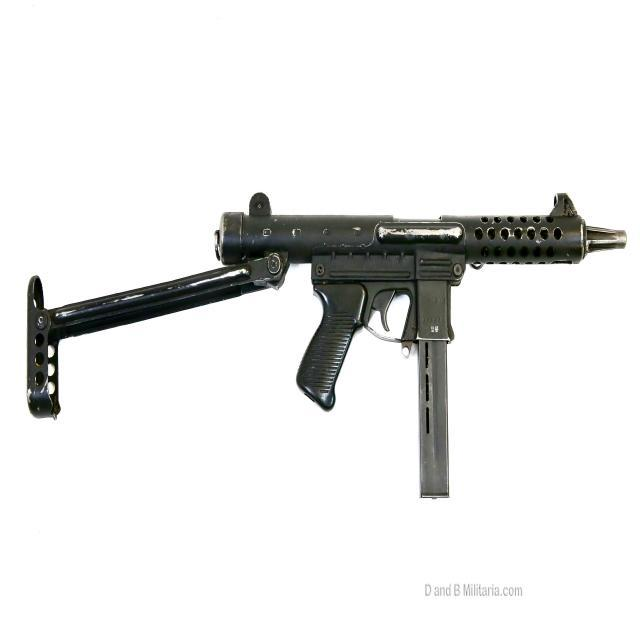smg: (21, 176, 635, 538)
